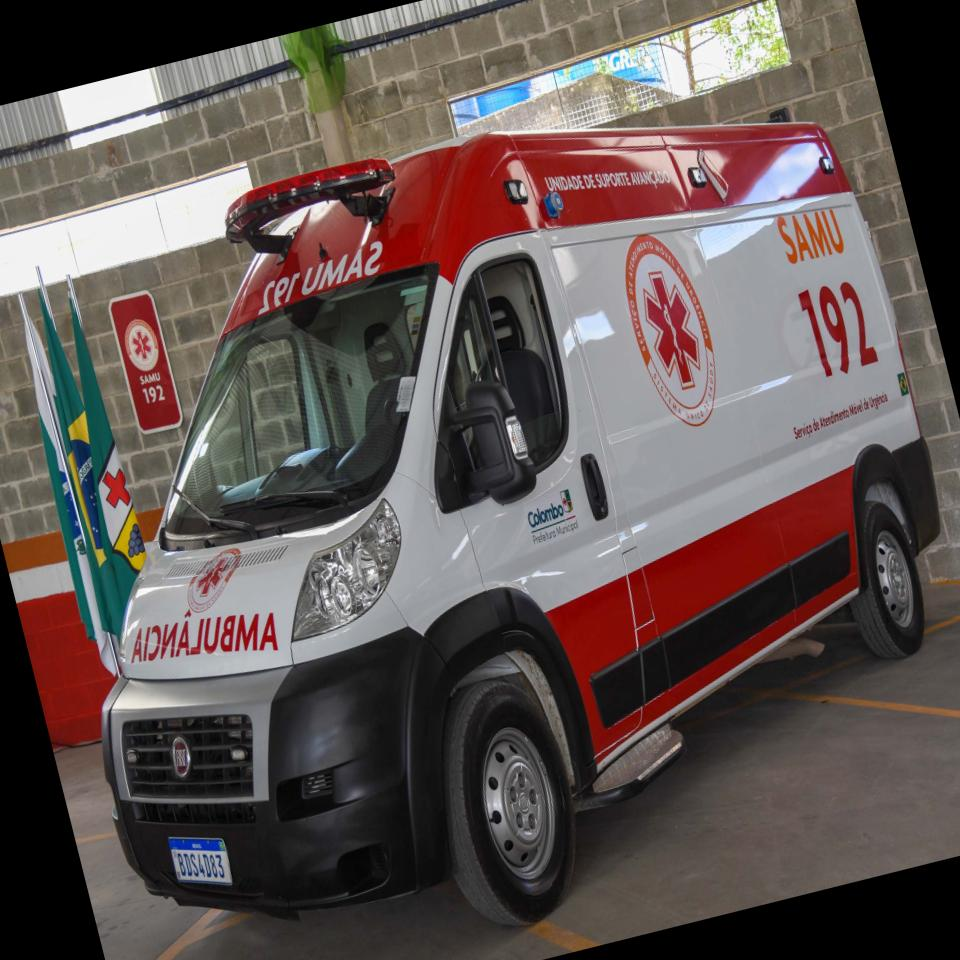bombeiro: (0, 41, 960, 960)
